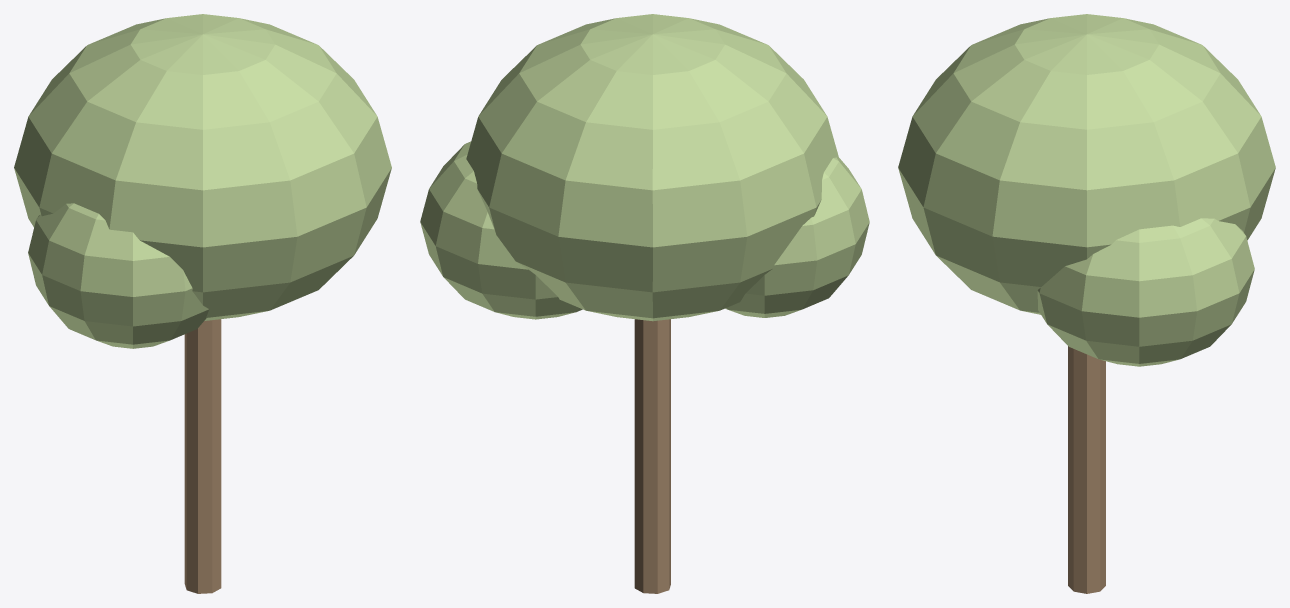
Rendered from suburban_deciduous.glb.
3 renders of one model, left to right at view 1: azimuth 30°, elevation 25°; view 2: azimuth 150°, elevation 25°; view 3: azimuth 270°, elevation 25°, orthographic.
Visible parts, largest first — view 1: canopy1, canopy3, trunk; view 2: canopy1, canopy2, trunk, canopy3; view 3: canopy1, canopy2, trunk.
Boxes of the visible parts, <box> form: canopy1: <box>14,14,391,320</box>; canopy3: <box>28,203,208,348</box>; trunk: <box>184,319,221,593</box>; canopy1: <box>466,14,839,321</box>; canopy2: <box>420,141,582,319</box>; trunk: <box>634,319,670,593</box>; canopy3: <box>725,157,869,317</box>; canopy1: <box>898,14,1275,314</box>; canopy2: <box>1037,218,1254,366</box>; trunk: <box>1068,346,1105,593</box>.
Size of the model in its own units: 4.1 by 5.8 by 3.6.
